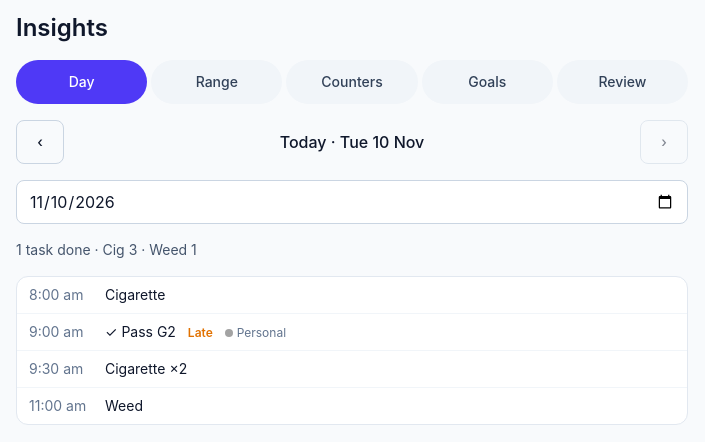
it: Insights → Day › says so for an empty day
Click the button named "Previous": (40, 142) [16, 120, 64, 164]
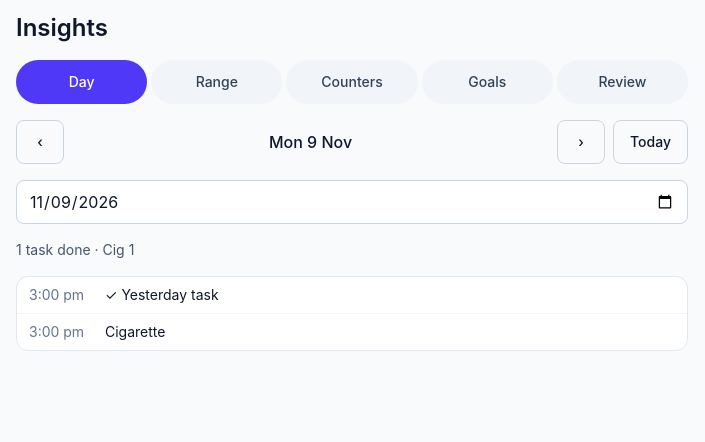
Click the button named "Previous": (40, 142) [16, 120, 64, 164]
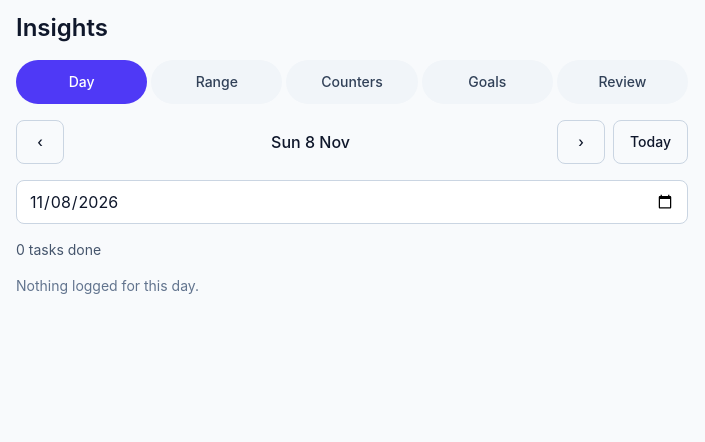
Check: the text "Nothing logged for this day." is shown, box [16, 277, 199, 294]
